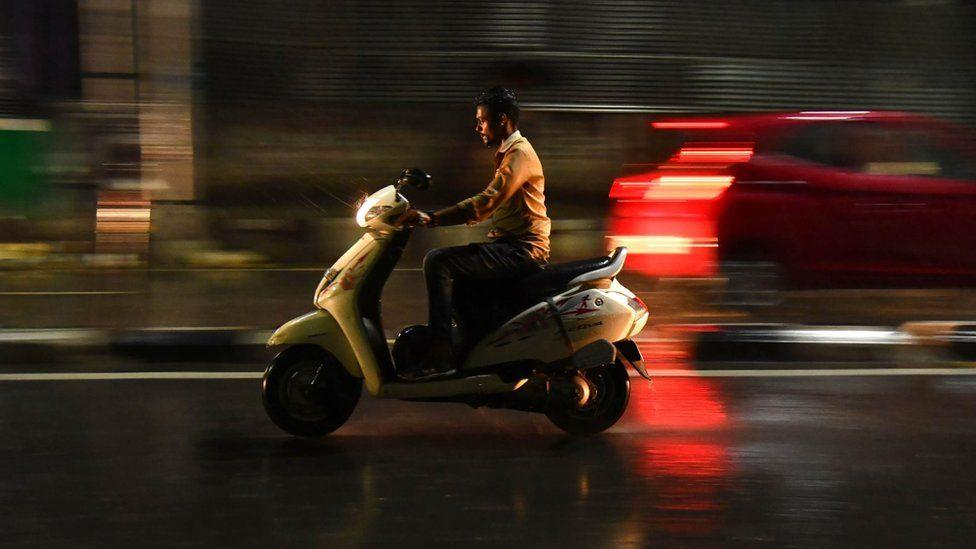nohelmet: (470, 76, 537, 157)
